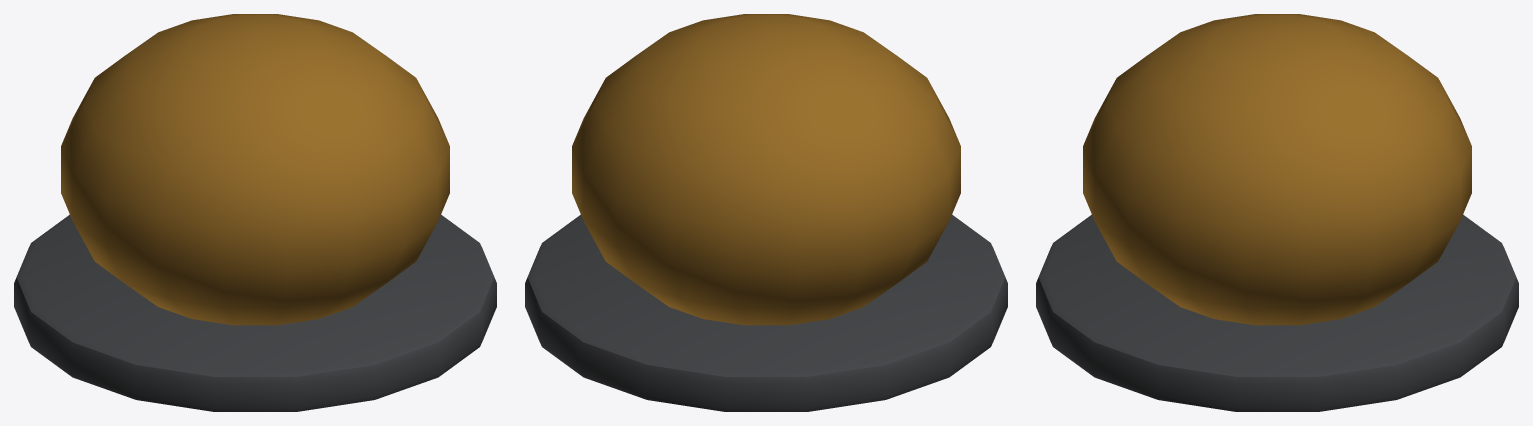
Rendered from tee_marker_gold.glb.
3 views of the same model, side by side, from view 1: azimuth 30°, elevation 25°; view 2: azimuth 150°, elevation 25°; view 3: azimuth 270°, elevation 25° (orthographic).
Visible parts, largest first — view 1: tee_marker_gold_body; view 2: tee_marker_gold_body; view 3: tee_marker_gold_body.
Boxes of the visible parts, bbox=[...] form: tee_marker_gold_body: bbox=[14, 14, 496, 411]; tee_marker_gold_body: bbox=[525, 14, 1007, 411]; tee_marker_gold_body: bbox=[1036, 14, 1518, 411].
Bounding box in the file's own units: 0.2167 × 0.1405 × 0.22.
